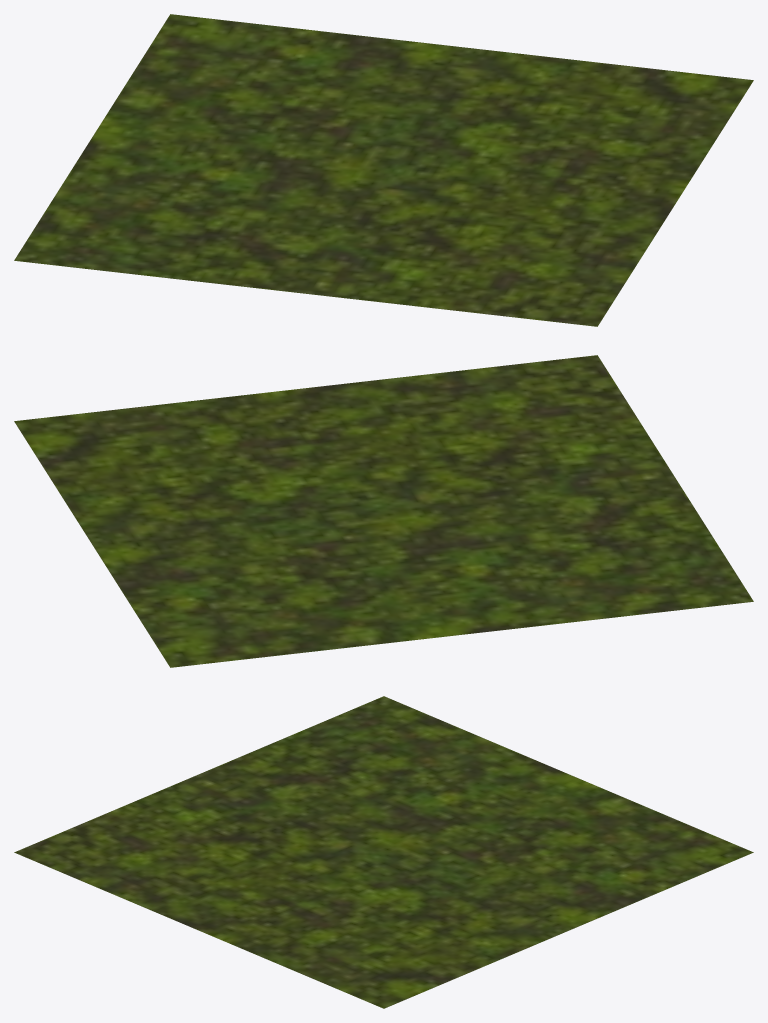
File: w_leisure_playground.glb
3 renders of one model, top to bottom at view 1: azimuth 30°, elevation 25°; view 2: azimuth 150°, elevation 25°; view 3: azimuth 270°, elevation 25°, orthographic. The views are drawn at different scales.
Parts seen in each view (by area): view 1: Plane; view 2: Plane; view 3: Plane.
Boxes of the visible parts, <box> form: Plane: <box>14,14,753,326</box>; Plane: <box>14,355,753,667</box>; Plane: <box>14,696,753,1008</box>.
Bounding box in the file's own units: 2.83 × 0 × 2.83.
Materials: 1 (1 with a texture image).
